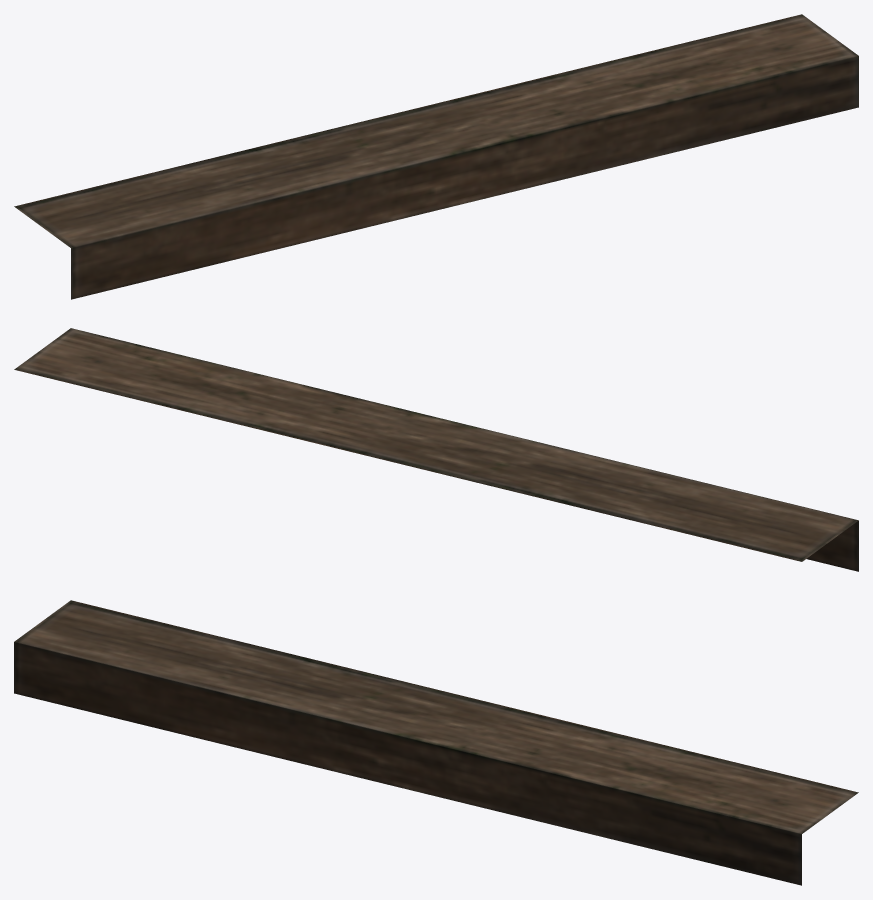
Rendered from stairs_wide.glb.
3 renders of one model, top to bottom at view 1: azimuth 30°, elevation 25°; view 2: azimuth 150°, elevation 25°; view 3: azimuth 330°, elevation 25°, orthographic.
Visible parts, largest first — view 1: Stairs_Wide_Single; view 2: Stairs_Wide_Single; view 3: Stairs_Wide_Single.
Boxes of the visible parts, bbox=[...] form: Stairs_Wide_Single: bbox=[14, 14, 858, 299]; Stairs_Wide_Single: bbox=[14, 328, 858, 571]; Stairs_Wide_Single: bbox=[14, 600, 858, 885].
Bounding box in the file's own units: 3 × 0.1875 × 0.3753.
1 material, 1 textured.
